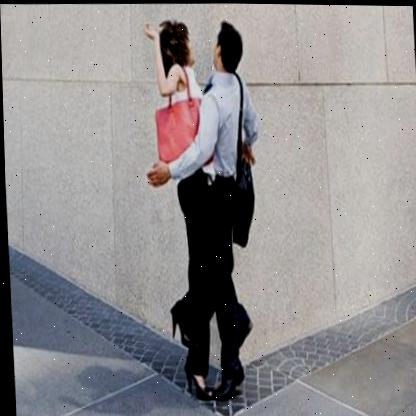person: (119, 12, 228, 401), (191, 14, 289, 384)
